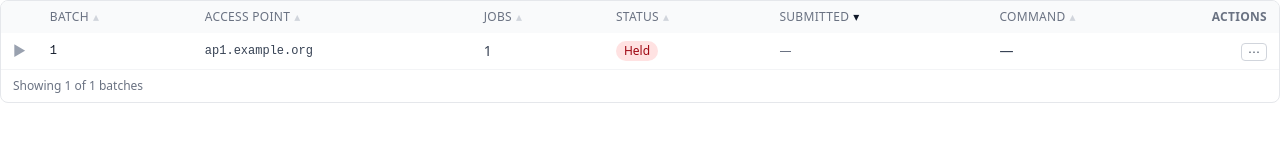
BatchTable batch page links › has no batch page in multi-AP mode
What coordinates should you click on to do the following:
click the button named "More actions for batch"
I would click on:
 (1254, 52)
Its box is [1241, 43, 1267, 61].
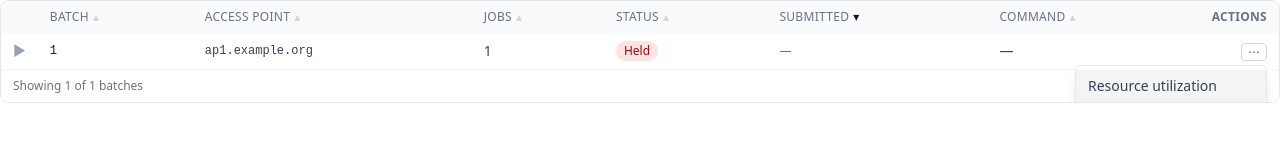
Result: the menu item "Resource utilization" is shown at [1076, 70, 1266, 102]
